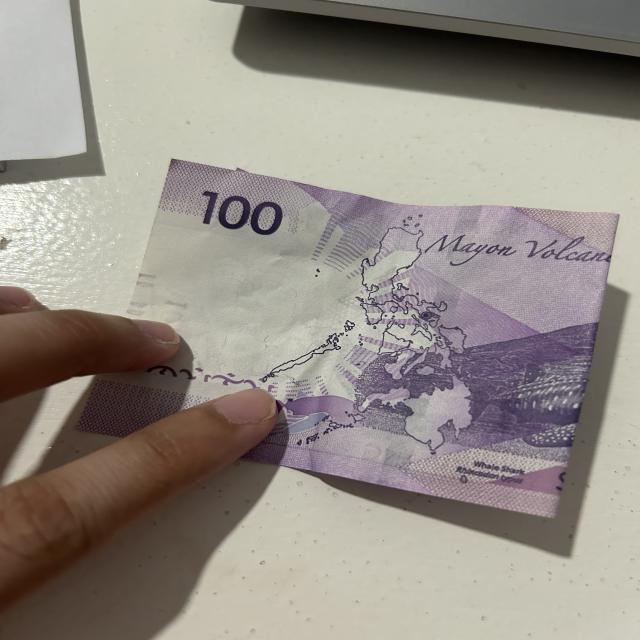100_whale: (472, 367, 585, 445)
100_whale_watermark: (273, 392, 364, 430)
value_watermark: (156, 300, 190, 325)
